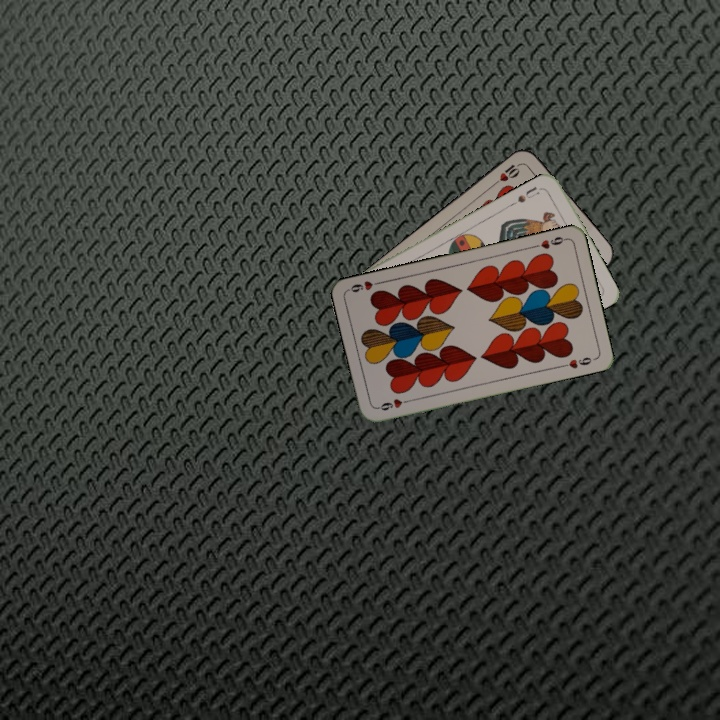H10: (490, 159, 525, 188)
H9: (529, 232, 569, 252), (373, 395, 413, 413)
SU: (513, 182, 542, 206)
